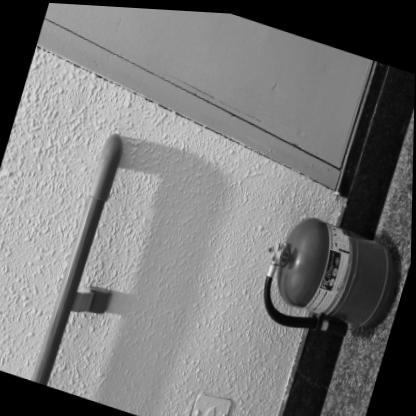FE: (256, 204, 410, 350)
